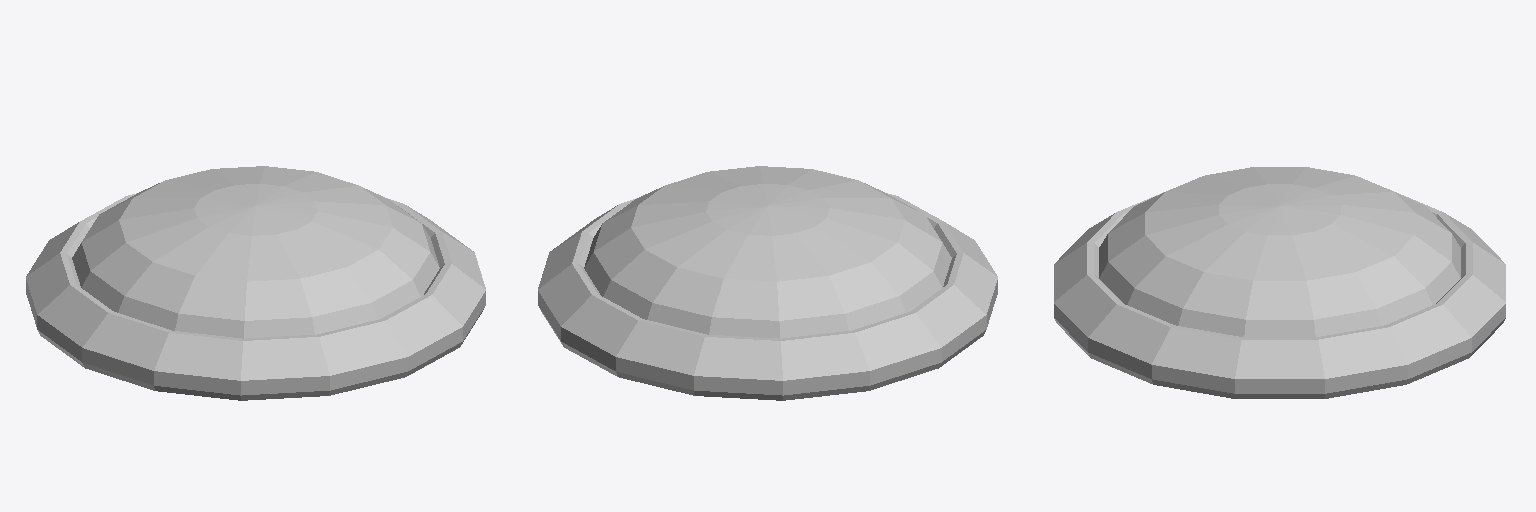
The model's file is frisbee.obj.
3 renders of one model, left to right at view 1: azimuth 30°, elevation 25°; view 2: azimuth 150°, elevation 25°; view 3: azimuth 270°, elevation 25°, orthographic.
Parts seen in each view (by area): view 1: frisbee; view 2: frisbee; view 3: frisbee.
Boxes of the visible parts, x1=… form: frisbee: x1=26, y1=166, x2=485, y2=400; frisbee: x1=538, y1=166, x2=997, y2=400; frisbee: x1=1054, y1=167, x2=1505, y2=398.
Bounding box in the file's own units: 0.8 × 0.1952 × 0.8.